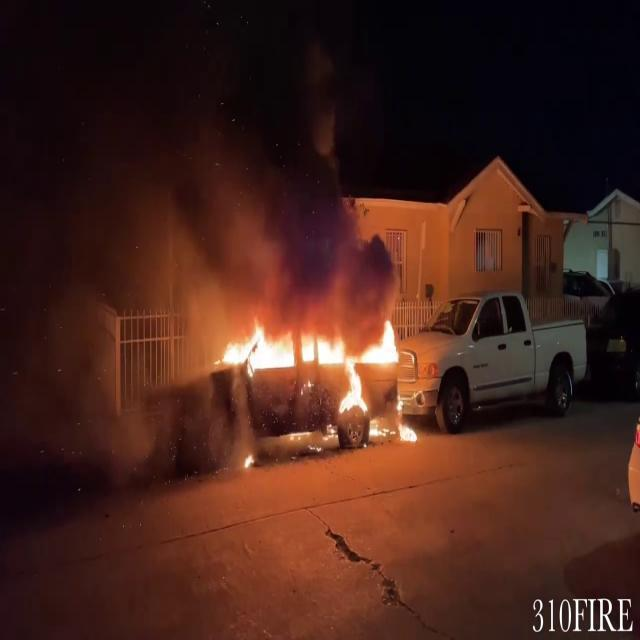Fire: (207, 310, 417, 440)
Smoke: (49, 1, 396, 326)
